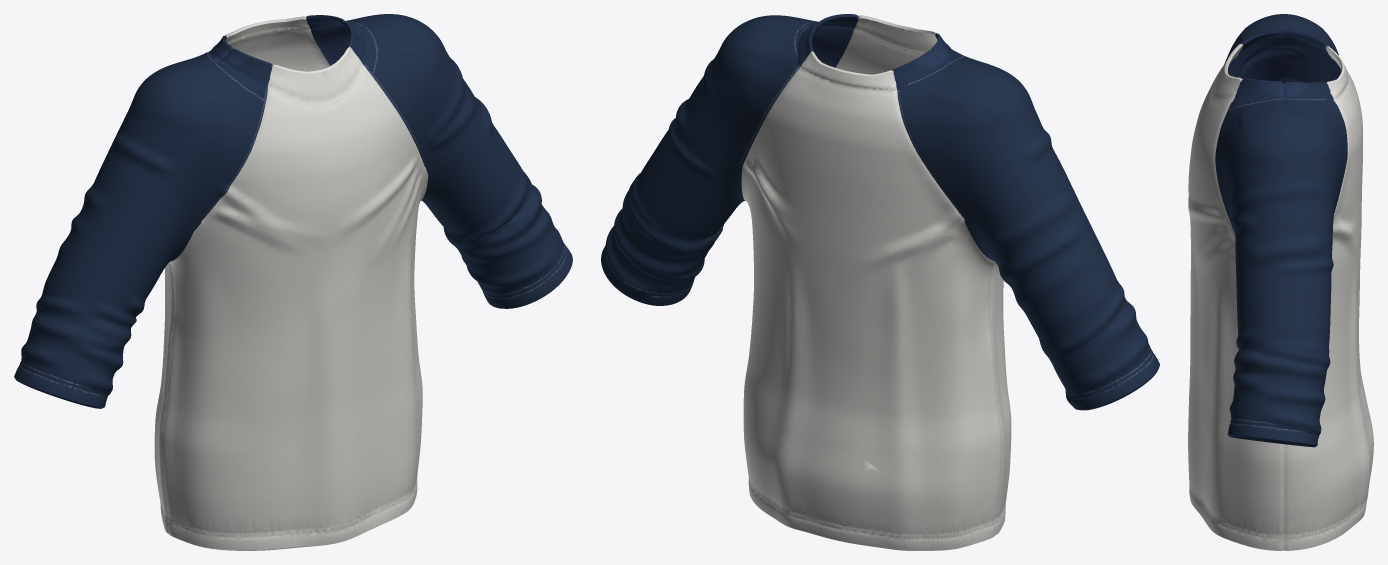
The model's file is 08_camiseta_raglan_pbr.glb.
3 renders of one model, left to right at view 1: azimuth 30°, elevation 25°; view 2: azimuth 150°, elevation 25°; view 3: azimuth 270°, elevation 25°, orthographic. The views are drawn at different scales.
Visible parts, largest first — view 1: Camiseta PBR; view 2: Camiseta PBR; view 3: Camiseta PBR.
Boxes of the visible parts, x1,y1,x2,y2 form: Camiseta PBR: (14,14,572,550); Camiseta PBR: (601,14,1159,550); Camiseta PBR: (1188,14,1373,550).
Size of the model in its own units: 0.8762 by 0.7277 by 0.2769.
1 material, 1 textured.
